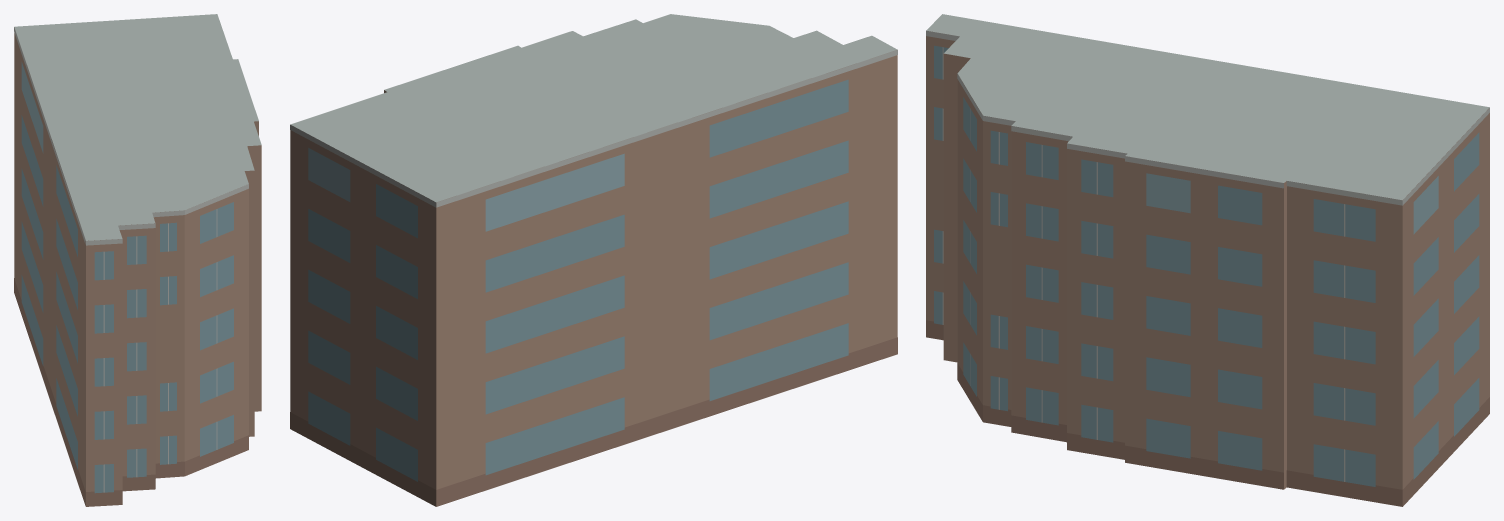
File: survey-upis-32587360.glb
3 views of the same model, side by side, from view 1: azimuth 30°, elevation 25°; view 2: azimuth 150°, elevation 25°; view 3: azimuth 270°, elevation 25° (orthographic). The views are drawn at different scales.
Visible parts, largest first — view 1: survey-upis-32587360.tmp; view 2: survey-upis-32587360.tmp; view 3: survey-upis-32587360.tmp.
Part boxes in pixels (x1,y1,x2,y2): survey-upis-32587360.tmp: (14, 14, 261, 506); survey-upis-32587360.tmp: (290, 14, 897, 506); survey-upis-32587360.tmp: (926, 14, 1489, 506).
Bounding box in the file's own units: 18.12 × 13.9 × 23.17.
